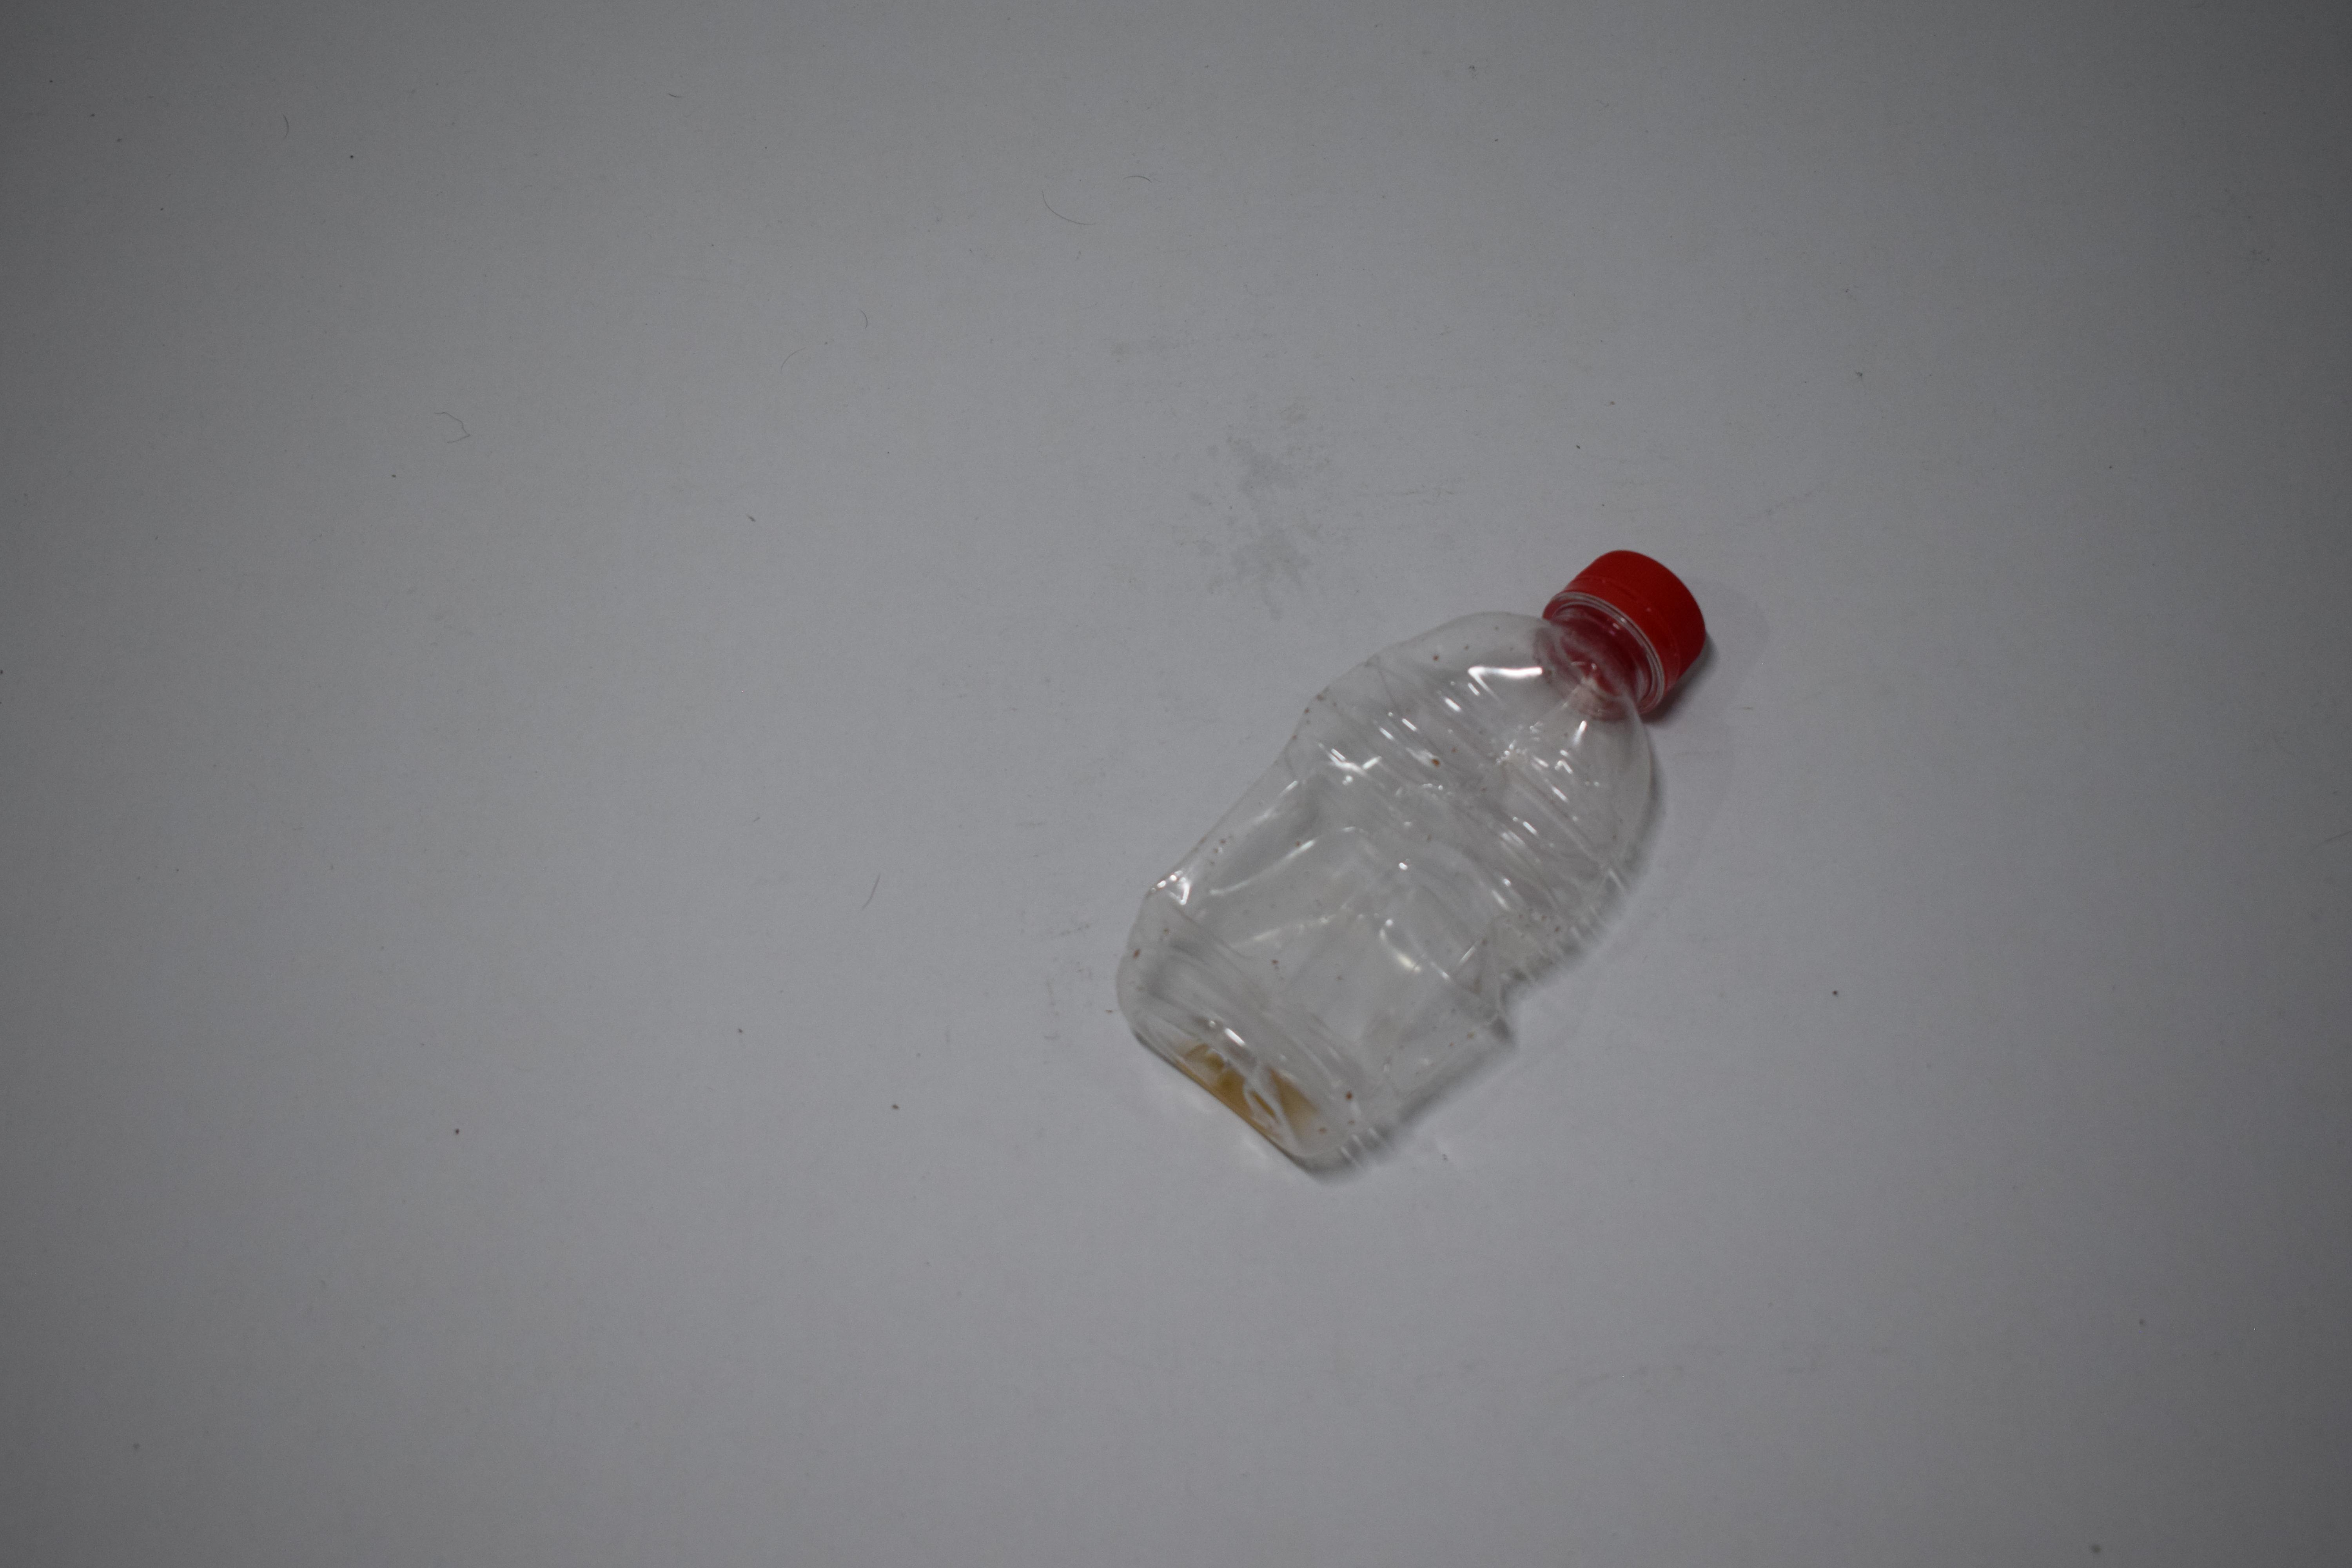bottle: (1169, 0, 1659, 392)
